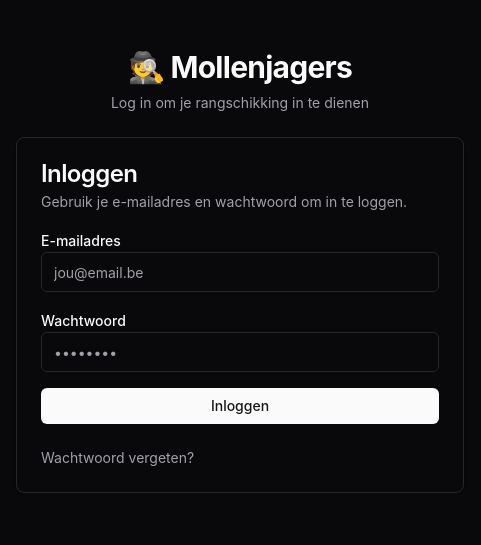
LoginPage › shows validation error when fields are empty
Click the button "Inloggen" at (240, 406), box [41,388,439,424]
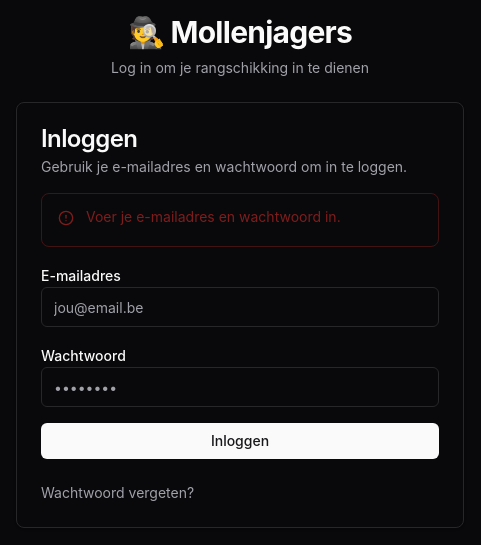
Expected: the text "Voer je e-mailadres en wachtwoord in." is shown, [86,208,341,225]
